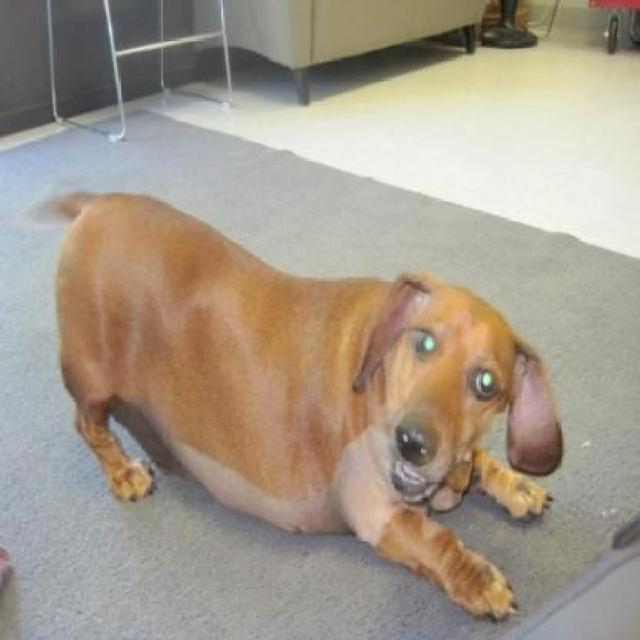Dog: (28, 180, 564, 629)
